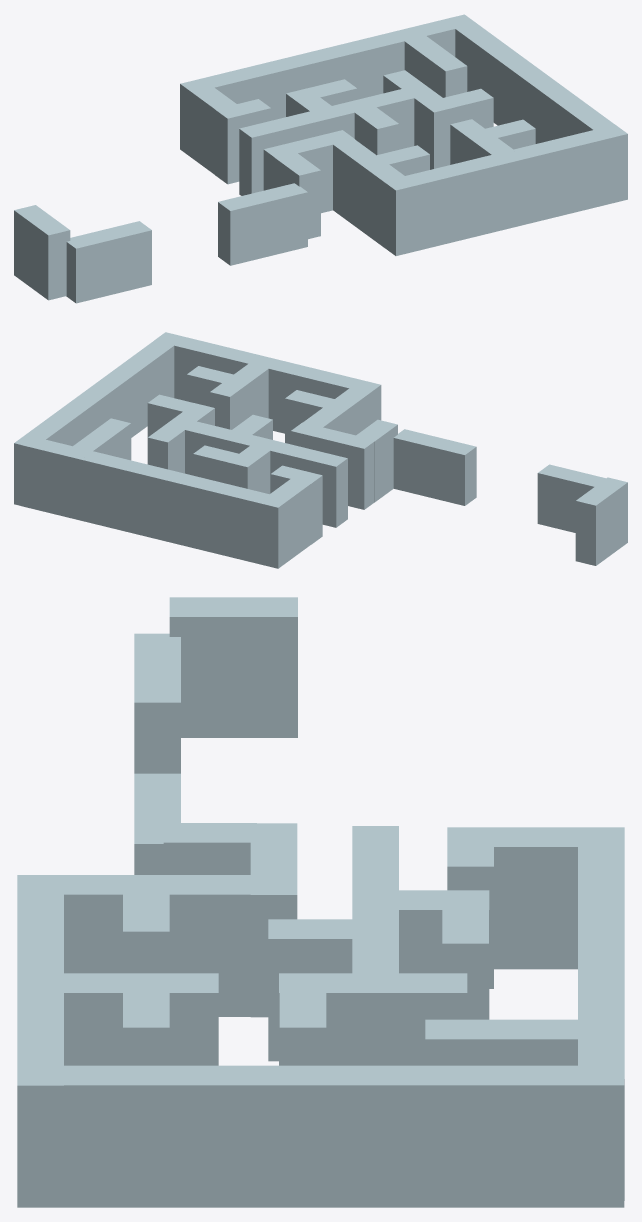
File: laberinto1.fbx
The picture shows the model from 3 angles, top to bottom: view 1: azimuth 30°, elevation 25°; view 2: azimuth 150°, elevation 25°; view 3: azimuth 270°, elevation 25°; orthographic projection. The views are drawn at different scales.
Visible parts, largest first — view 1: Cube.005; view 2: Cube.005; view 3: Cube.005.
Part boxes in pixels (x1,y1,x2,y2): Cube.005: (14,14,627,303); Cube.005: (14,332,627,568); Cube.005: (17,597,624,1207).
Size of the model in its own units: 2476 by 289 by 1301.
Materials: 1 (1 with a texture image).
